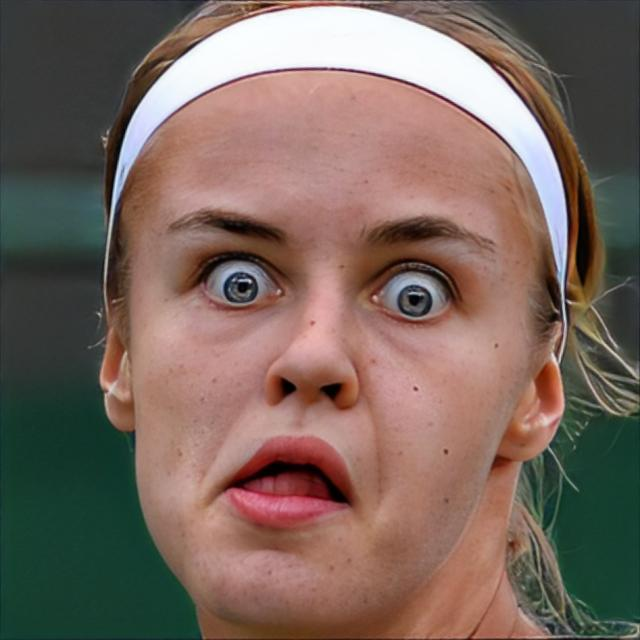fear: (130, 65, 528, 630)
